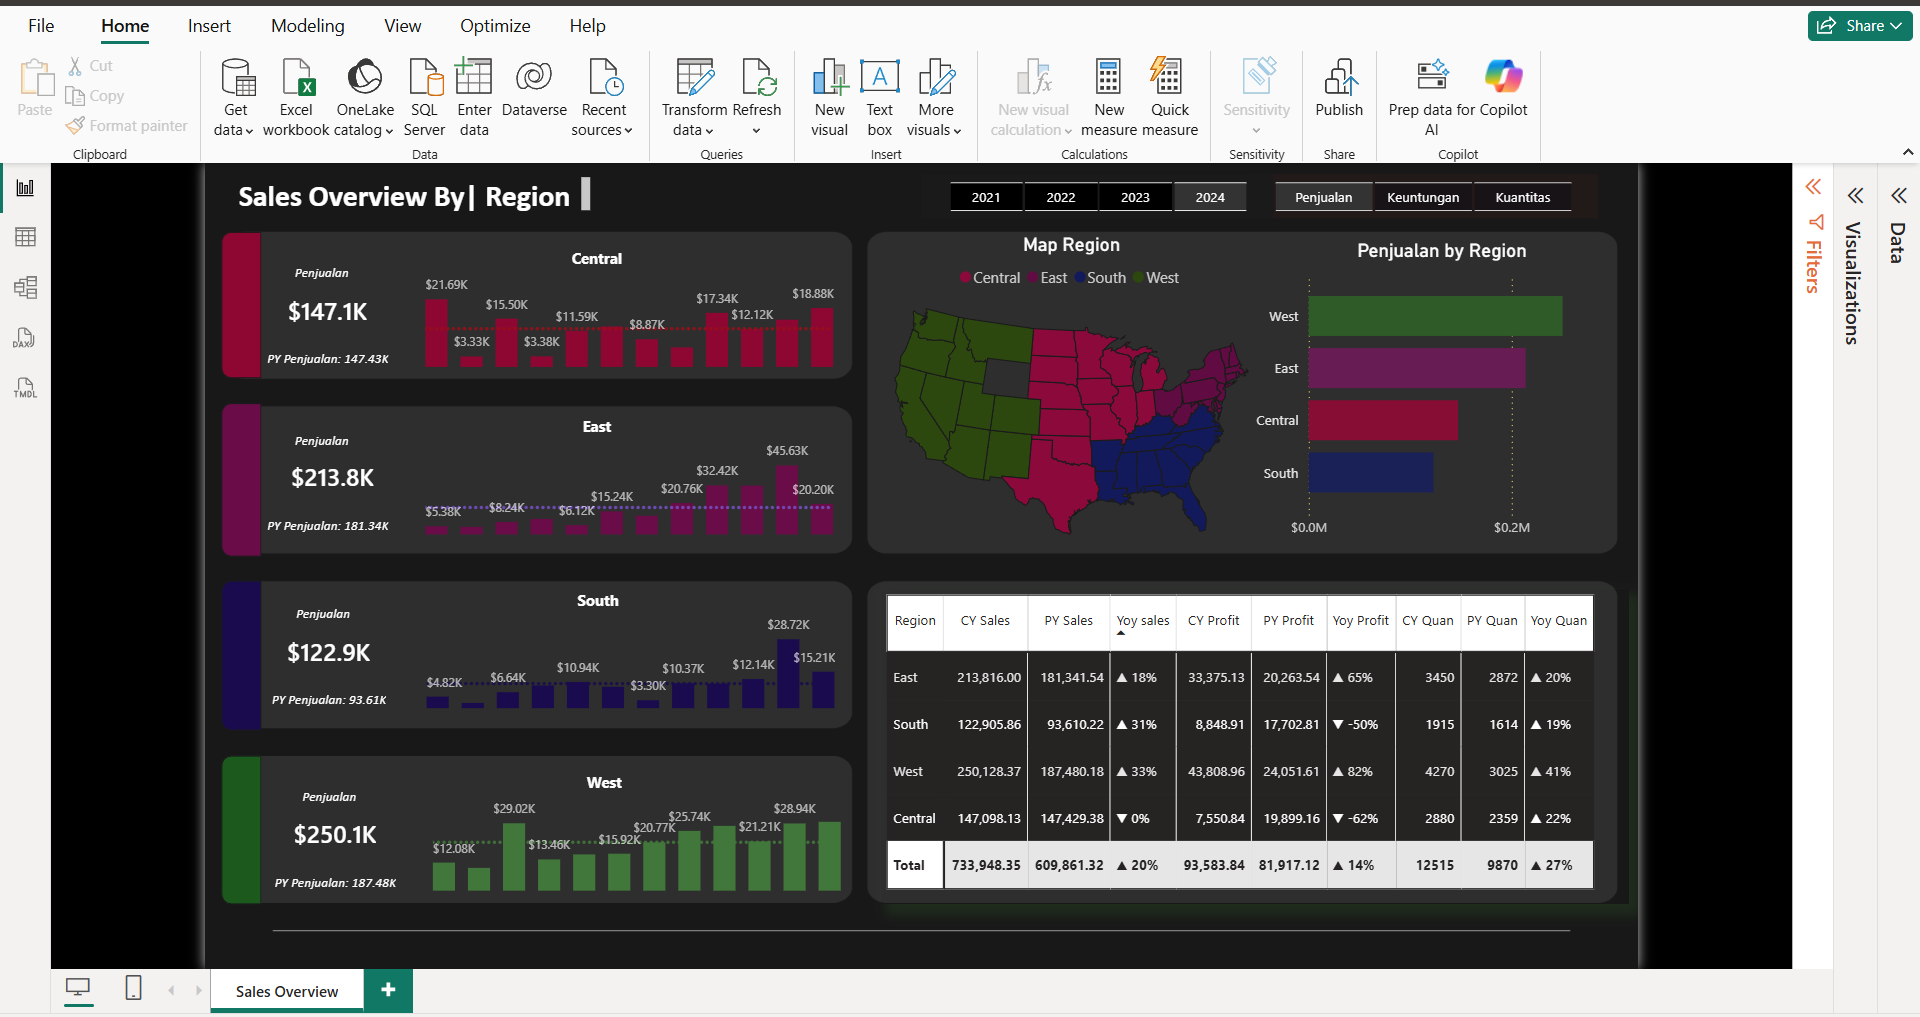

What the dashboard file says about the page in this screenshot:
{"tool":"powerbi","page":{"name":"Sales Overview ","canvas":[1280,720],"ordinal":0},"visuals":[{"type":"slicer","fields":{"Values":["Metric.Metric"]},"box":[930.4,9.5,314.7,39.1],"z":0},{"type":"cardVisual","fields":{"Data":["Sales Data.Total Penjualan"]},"box":[41.2,98.2,136.2,63.4],"z":0,"group":"g1"},{"type":"cardVisual","fields":{"Data":["Sales Data.Total Penjualan"]},"box":[44.9,248,136.1,62.5],"z":0,"group":"g2"},{"type":"cardVisual","fields":{"Data":["Sales Data.Total Penjualan"]},"box":[42.2,402.4,136.2,63.4],"z":0,"group":"g3"},{"type":"cardVisual","fields":{"Data":["Sales Data.Total Penjualan"]},"box":[48.6,566.1,136.2,63.4],"z":0,"group":"g4"},{"type":"slicer","fields":{"Values":["Calender Table.Tahun"]},"box":[640,10.6,314.7,39.1],"z":1000},{"type":"textbox","box":[320,71.8,59.1,33.8],"z":1000,"group":"g1"},{"type":"textbox","box":[320,220.7,59.1,33.8],"z":1000,"group":"g2"},{"type":"textbox","box":[321,376,59.1,33.8],"z":1000,"group":"g3"},{"type":"textbox","box":[327.4,539.7,59.1,33.8],"z":1000,"group":"g4"},{"type":"shape","box":[14.8,61.3,35.9,131],"z":2000},{"type":"cardVisual","fields":{"Data":["Sales Data.PY Penjualan"]},"box":[7.4,147.8,204.9,54.9],"z":2000,"group":"g1"},{"type":"cardVisual","fields":{"Data":["Sales Data.PY Penjualan"]},"box":[7.4,296.7,204.9,54.9],"z":2000,"group":"g2"},{"type":"cardVisual","fields":{"Data":["Sales Data.PY Penjualan"]},"box":[8.4,452,204.9,54.9],"z":2000,"group":"g3"},{"type":"cardVisual","fields":{"Data":["Sales Data.PY Penjualan"]},"box":[14.8,615.7,204.9,54.9],"z":2000,"group":"g4"},{"type":"textbox","box":[14.8,7.4,334.8,41.2],"z":3000},{"type":"cardVisual","fields":{"Data":["Sales Data.Title Dynamic"]},"box":[50.7,71.8,118.3,51.7],"z":3000,"group":"g1"},{"type":"cardVisual","fields":{"Data":["Sales Data.Title Dynamic"]},"box":[50.7,220.7,118.3,51.7],"z":3000,"group":"g2"},{"type":"cardVisual","fields":{"Data":["Sales Data.Title Dynamic"]},"box":[51.7,376,118.3,51.7],"z":3000,"group":"g3"},{"type":"cardVisual","fields":{"Data":["Sales Data.Title Dynamic"]},"box":[58.1,539.7,118.3,51.7],"z":3000,"group":"g4"},{"type":"clusteredColumnChart","fields":{"Y":["Sales Data.Total Penjualan"],"Category":["Calender Table.Bulan"]},"box":[191.2,85.5,374.9,103.5],"z":4000,"group":"g1"},{"type":"shape","box":[14.8,214.4,35.9,137.3],"z":4000},{"type":"clusteredColumnChart","fields":{"Y":["Sales Data.Total Penjualan"],"Category":["Calender Table.Bulan"]},"box":[191.2,234.4,374.9,103.5],"z":4000,"group":"g2"},{"type":"clusteredColumnChart","fields":{"Y":["Sales Data.Total Penjualan"],"Category":["Calender Table.Bulan"]},"box":[192.2,389.7,374.9,103.5],"z":4000,"group":"g3"},{"type":"clusteredColumnChart","fields":{"Y":["Sales Data.Total Penjualan"],"Category":["Calender Table.Bulan"]},"box":[198.6,553.4,374.9,103.5],"z":4000,"group":"g4"},{"type":"shape","box":[14.8,372.8,35.9,134.1],"z":5000},{"type":"shape","box":[14.8,529.1,35.9,133.1],"z":6000},{"type":"group","id":"g1","title":"Group 1","box":[7.4,71.8,558.7,131],"z":7000},{"type":"group","id":"g2","title":"Group 1","box":[7.4,220.7,558.7,131],"z":8000},{"type":"group","id":"g3","title":"Group 1","box":[8.4,376,558.7,131],"z":9000},{"type":"group","id":"g4","title":"Group 1","box":[14.8,539.7,558.7,131],"z":10000},{"type":"shapeMap","title":"Map Region","fields":{"Value":["Sales Data.Total Penjualan"],"Series":["Sales Data.Region"],"Category":["Sales Data.State/Province"]},"box":[594.2,62.8,360.5,288.4],"z":11000},{"type":"barChart","fields":{"Y":["Sales Data.Total Penjualan"],"Category":["Sales Data.Region"]},"box":[930.2,68.6,350,275.6],"z":12000},{"type":"pivotTable","fields":{"Rows":["Sales Data.Region"],"Values":["Calender Table.CY_Sales","Calender Table.PY Sale","Calender Table.Yoy sales","Calender Table.CY_PROFIT","Calender Table.PY PROFIT","Calender Table.Yoy Profit","Calender Table.CY_Quantity","Calender Table.PY Quantity","Calender Table.Yoy Quantity"]},"box":[604.1,380.8,667.7,281.4],"z":13000}]}

Visuals, with their boxes on the page's 1280x720 design canvas (x1, y1, x2, y2). These are canvas units, not pixel positions in the 1920x1017 screenshot, which may show the page scaled, cropped or inside an application window:
slicer - Metric.Metric: box(930, 10, 1245, 49)
cardVisual - Sales Data.Total Penjualan: box(41, 98, 177, 162)
cardVisual - Sales Data.Total Penjualan: box(45, 248, 181, 310)
cardVisual - Sales Data.Total Penjualan: box(42, 402, 178, 466)
cardVisual - Sales Data.Total Penjualan: box(49, 566, 185, 630)
slicer - Calender Table.Tahun: box(640, 11, 955, 50)
textbox: box(320, 72, 379, 106)
textbox: box(320, 221, 379, 254)
textbox: box(321, 376, 380, 410)
textbox: box(327, 540, 386, 574)
shape: box(15, 61, 51, 192)
cardVisual - Sales Data.PY Penjualan: box(7, 148, 212, 203)
cardVisual - Sales Data.PY Penjualan: box(7, 297, 212, 352)
cardVisual - Sales Data.PY Penjualan: box(8, 452, 213, 507)
cardVisual - Sales Data.PY Penjualan: box(15, 616, 220, 671)
textbox: box(15, 7, 350, 49)
cardVisual - Sales Data.Title Dynamic: box(51, 72, 169, 124)
cardVisual - Sales Data.Title Dynamic: box(51, 221, 169, 272)
cardVisual - Sales Data.Title Dynamic: box(52, 376, 170, 428)
cardVisual - Sales Data.Title Dynamic: box(58, 540, 176, 591)
clusteredColumnChart - Sales Data.Total Penjualan x Calender Table.Bulan: box(191, 86, 566, 189)
shape: box(15, 214, 51, 352)
clusteredColumnChart - Sales Data.Total Penjualan x Calender Table.Bulan: box(191, 234, 566, 338)
clusteredColumnChart - Sales Data.Total Penjualan x Calender Table.Bulan: box(192, 390, 567, 493)
clusteredColumnChart - Sales Data.Total Penjualan x Calender Table.Bulan: box(199, 553, 574, 657)
shape: box(15, 373, 51, 507)
shape: box(15, 529, 51, 662)
"Group 1" group: box(7, 72, 566, 203)
"Group 1" group: box(7, 221, 566, 352)
"Group 1" group: box(8, 376, 567, 507)
"Group 1" group: box(15, 540, 574, 671)
"Map Region" shapeMap: box(594, 63, 955, 351)
barChart - Sales Data.Total Penjualan x Sales Data.Region: box(930, 69, 1280, 344)
pivotTable - Sales Data.Region x Calender Table.CY_Sales: box(604, 381, 1272, 662)
